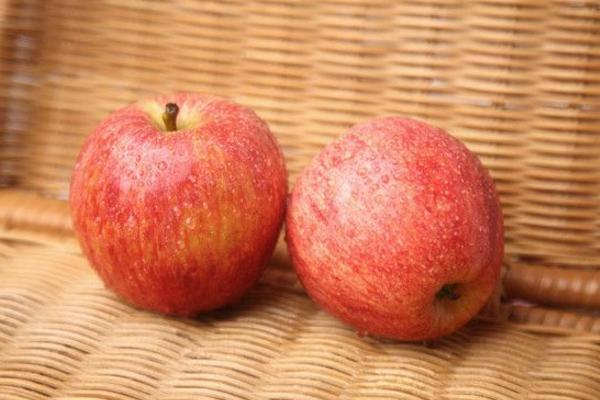apple: (285, 115, 503, 347), (67, 94, 287, 319)
